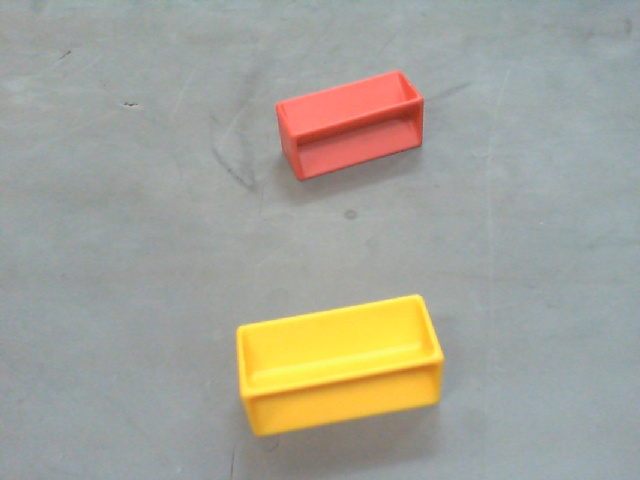RedSample: (276, 70, 427, 181)
YellowSample: (232, 291, 447, 440)
